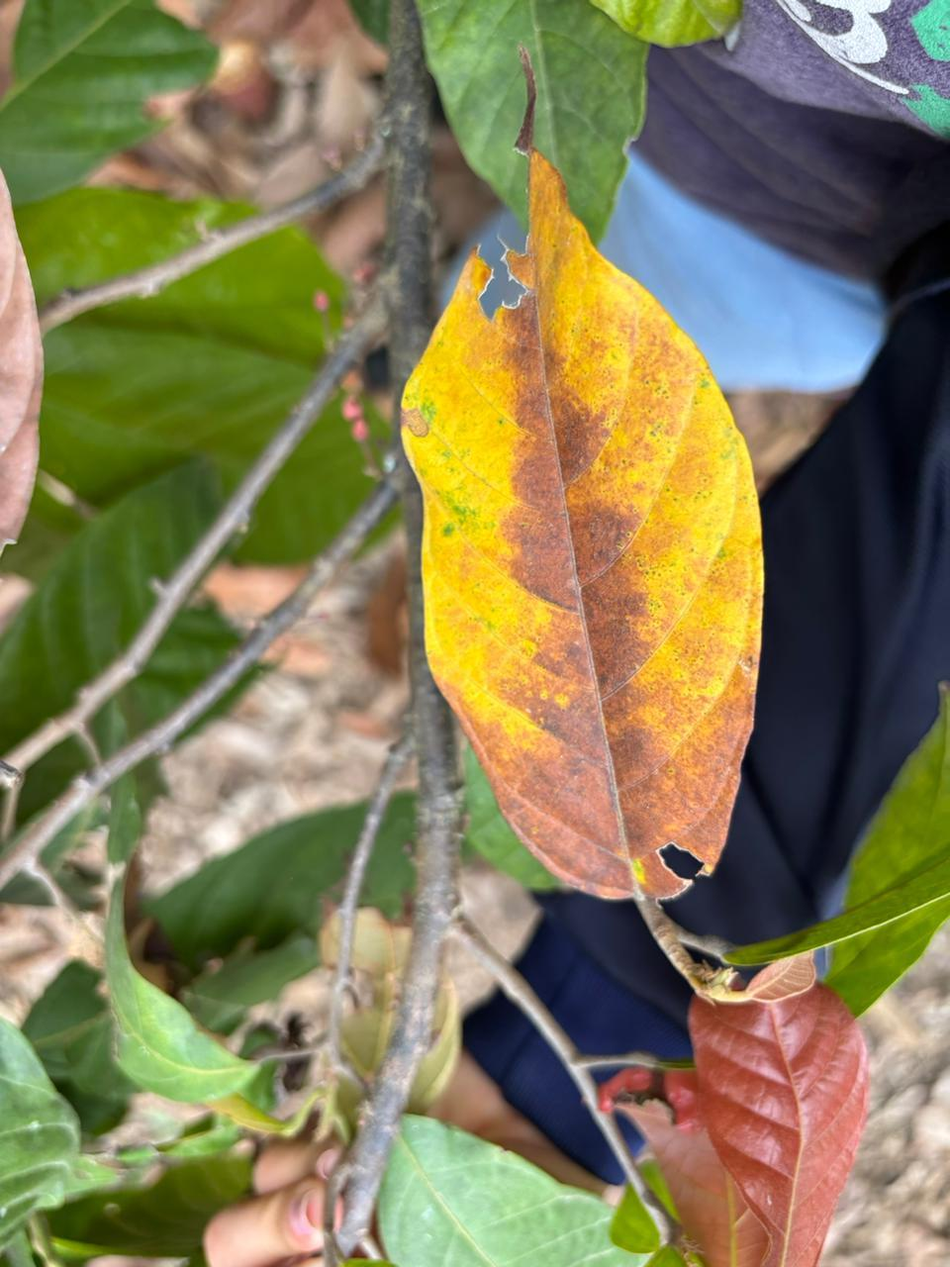Fosforo: (402, 146, 762, 898)
